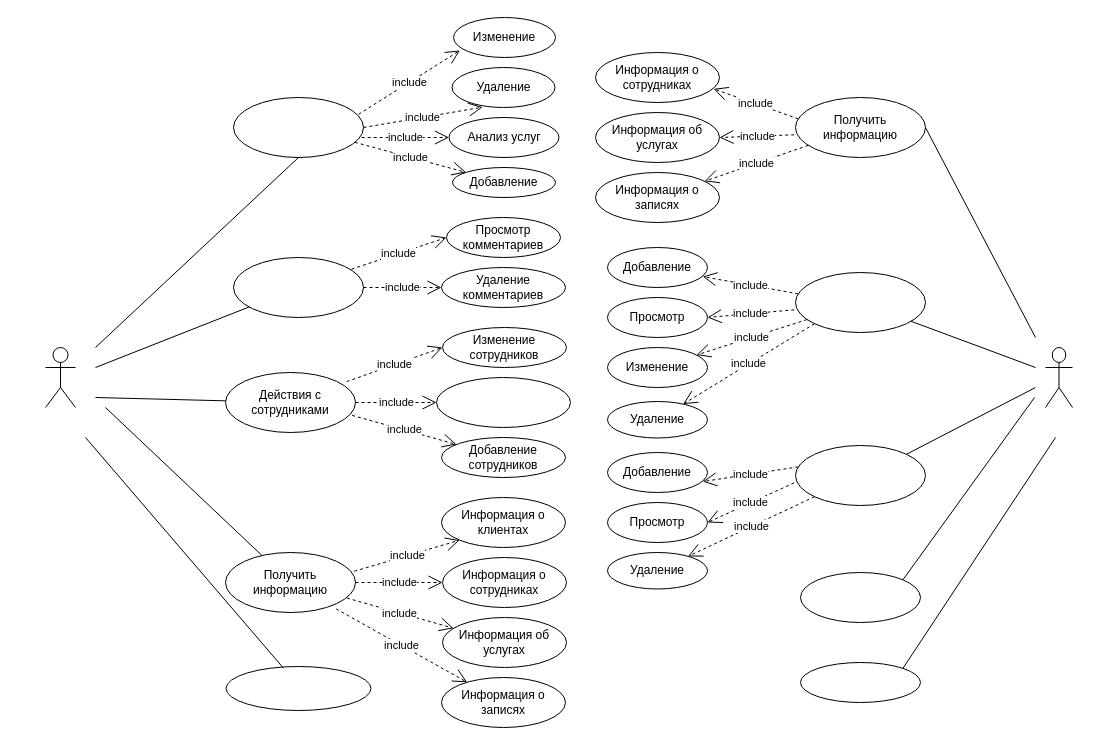
Some shapes in this 1096 by 745 pixel diagram are drawn without their labels. The centre of each missing label's shape, as x and y in pixels:
"Авторизация" goes at pixel 860 682.
"Администратор" goes at pixel 60 377.
"Действия с комментариями" goes at pixel 298 287.
"Действия с личной записью" goes at pixel 860 302.
"Действия с отзывами" goes at pixel 860 475.
"Действия с услугами" goes at pixel 298 127.
"Клиент" goes at pixel 1058 377.
"Регистрация" goes at pixel 860 597.
"Удаление клиентов" goes at pixel 298 688.
"Удаление сотрудников" goes at pixel 503 402.
